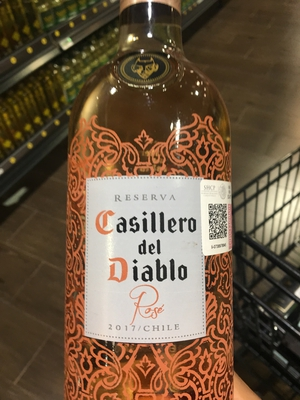casillero del diablo rose: (55, 2, 241, 400)
